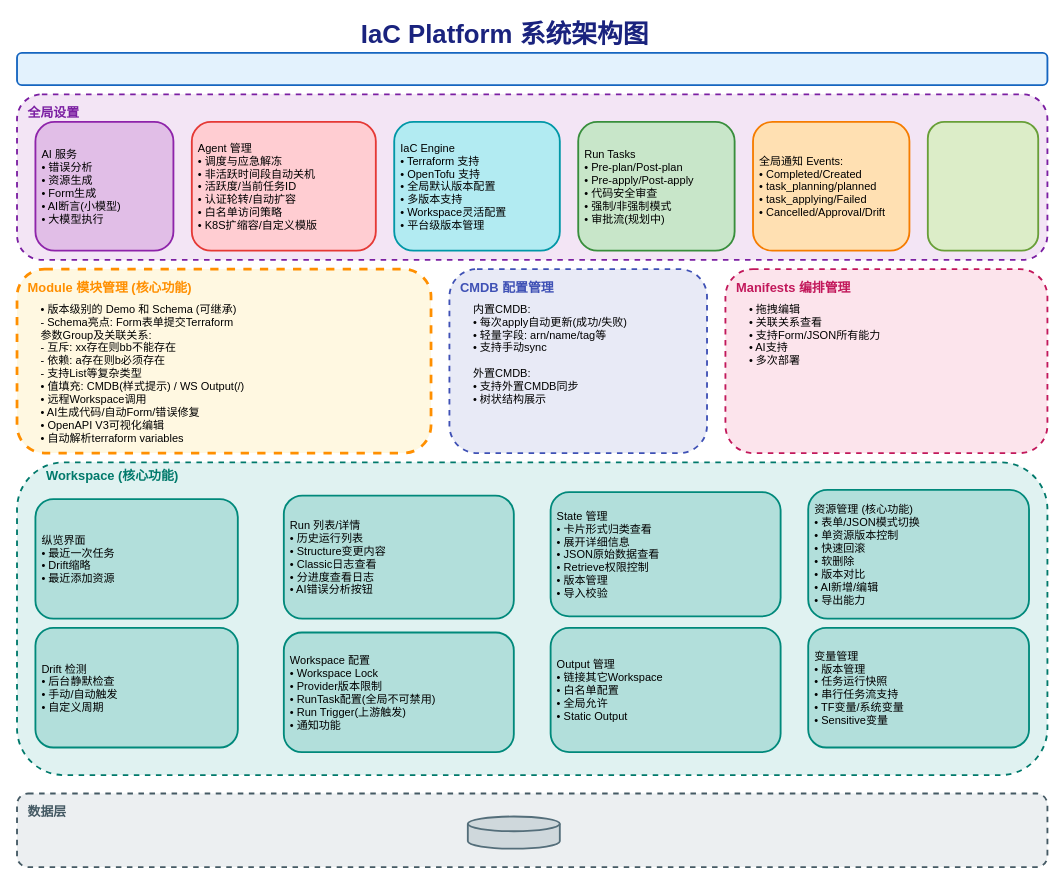
Image size: 1064x883. Some labels were removed from this diagram. The shapes that lost their labels are listed below. From the top down, each one's box as (x1, y1, x2, y2) in pixels, then its label:
(16, 52, 1048, 86): 平台特色: 全UI管理(脱离命令行) | 全局搜索 | Schema Form表单提交 | 参数关联关系 | AI能力
(926, 121, 1039, 251): RBAC 权限管理 • 内建 Role • 自定义 Role • Group 管理 • 审计日志
(466, 815, 560, 849): PostgreSQL
